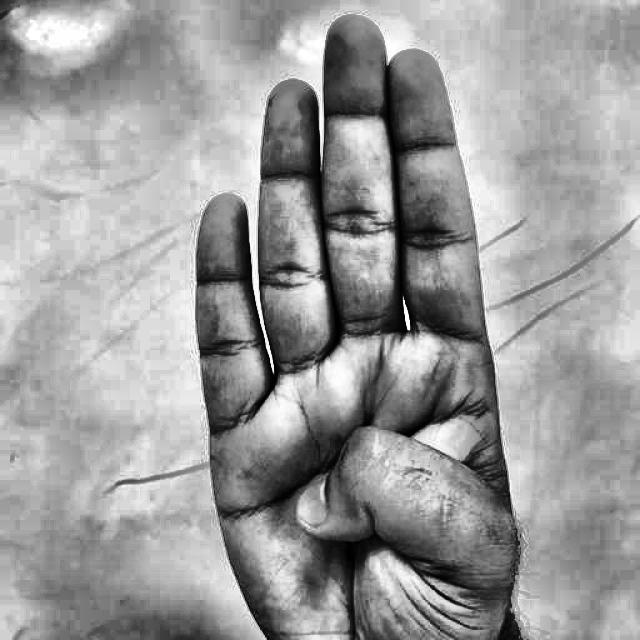Ba: (169, 1, 545, 640)
